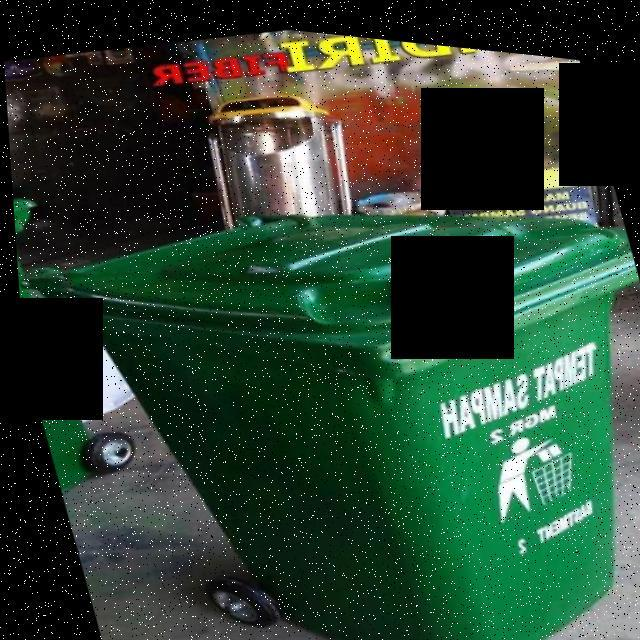bin: (4, 76, 640, 640)
